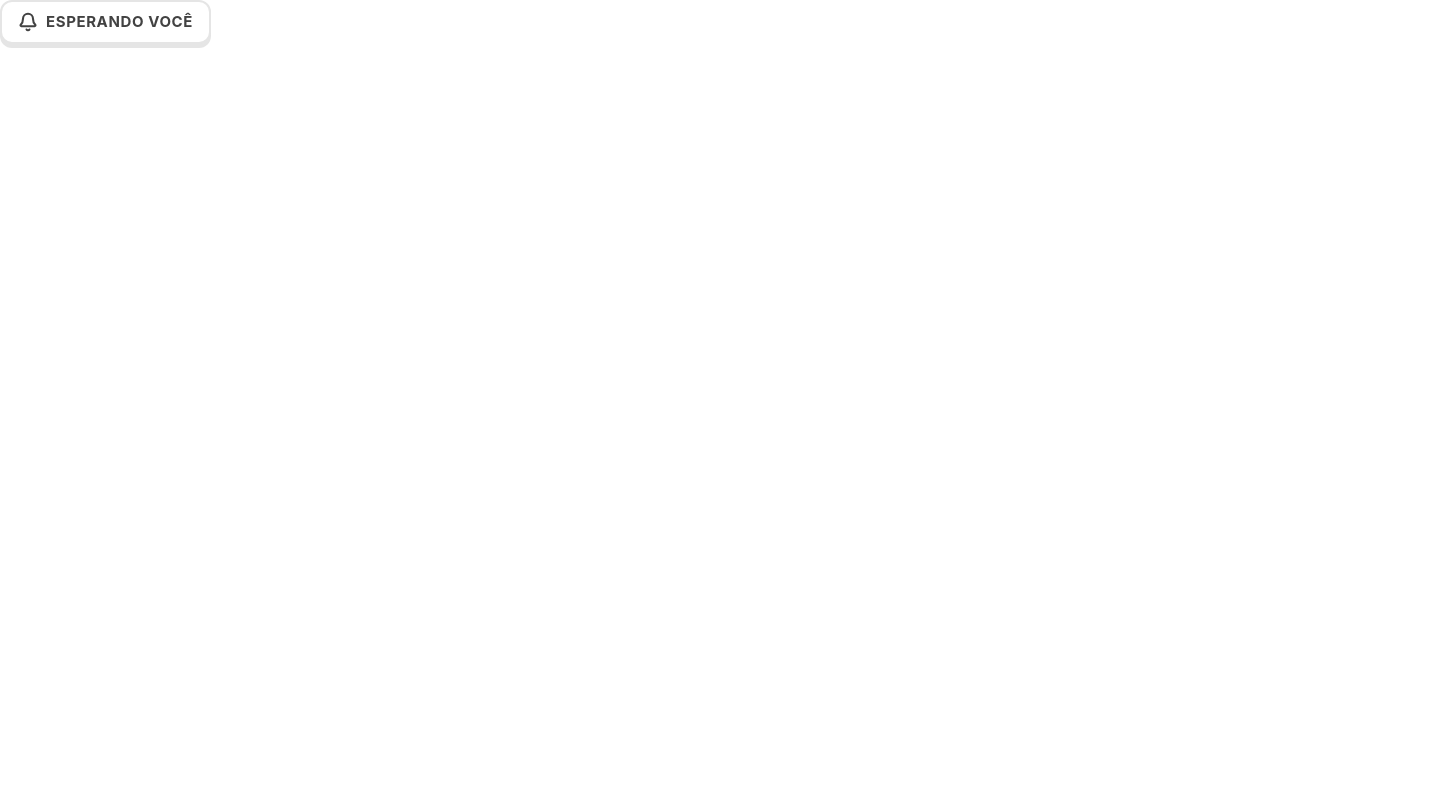
a lista "Esperando você" › a lista parcial mostra o que veio, diz que parte não carregou e nunca diz "Tudo em dia", nem sem item
The image size is (1440, 810).
Later steps or results of the test are not shown.
What coordinates should you click on to do the following:
click the button with aria-label "Esperando você, parte não carregou"
I would click on:
 (106, 22)
Its box is [0, 0, 211, 44].
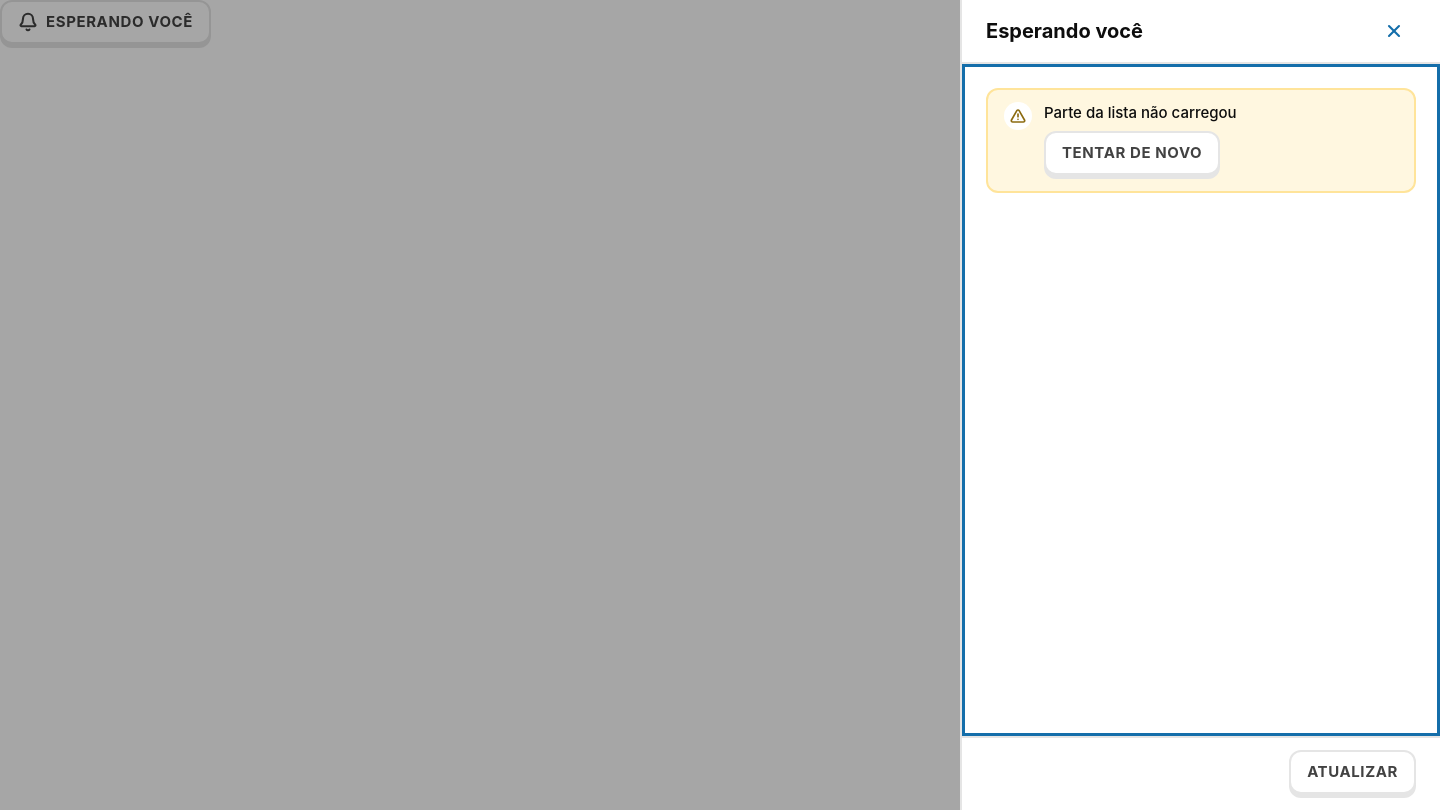
Now the text "Parte da lista não carregou" is shown, box [1044, 103, 1237, 122]
